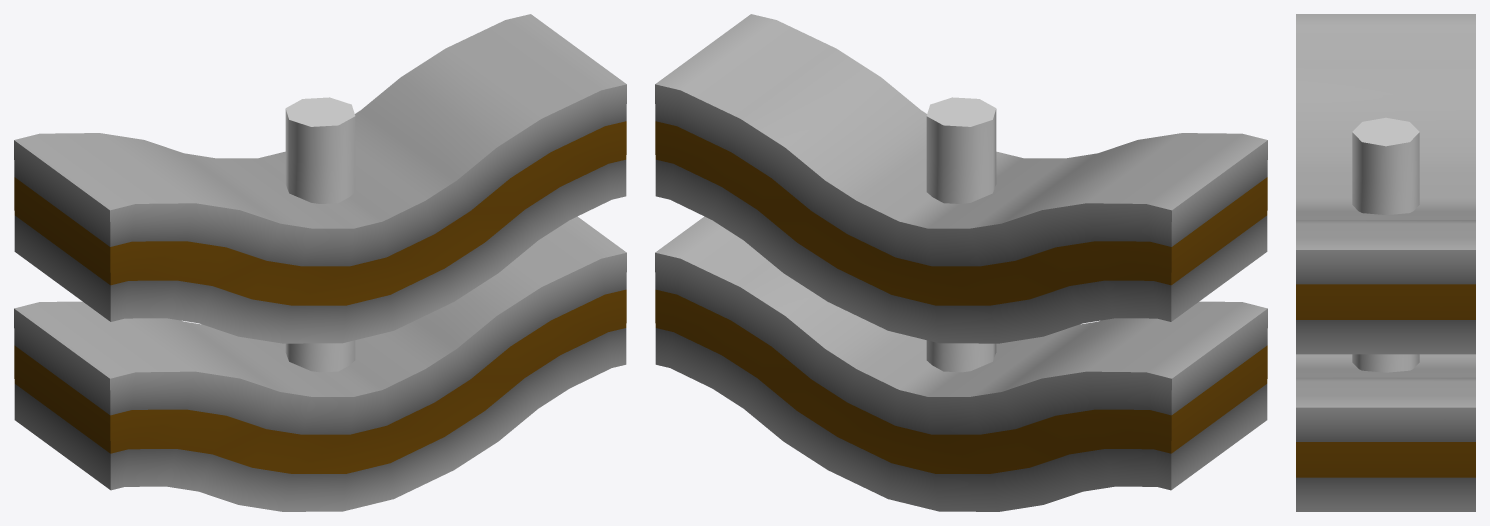
Rendered from obj_dekotora_railing02.fbx.
3 renders of one model, left to right at view 1: azimuth 30°, elevation 25°; view 2: azimuth 150°, elevation 25°; view 3: azimuth 270°, elevation 25°, orthographic. The views are drawn at different scales.
Parts seen in each view (by area): view 1: Cube.035; view 2: Cube.035; view 3: Cube.035.
Boxes of the visible parts, left/top/right/bottom form: Cube.035: left=14, top=14, right=626, bottom=511; Cube.035: left=655, top=14, right=1267, bottom=511; Cube.035: left=1296, top=14, right=1475, bottom=511.
Size of the model in its own units: 3.01 by 1.99 by 0.9691.
